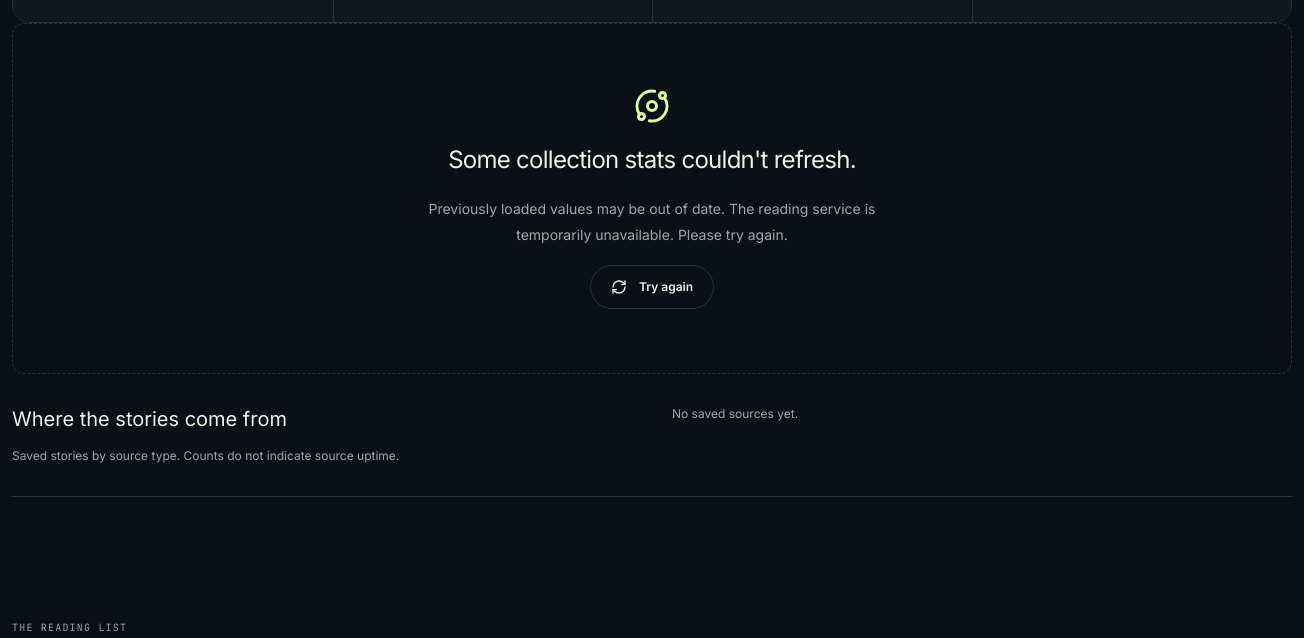
it: keeps stories readable during a stats failure and retries the failed widget
The image size is (1304, 638).
(page scrolled)
Expected: the heading "Some collection stats couldn't refresh." is shown, [448, 142, 856, 178]
Step 1. Click the button "Try again" → click(652, 287), box [590, 265, 714, 309]
(page scrolled)
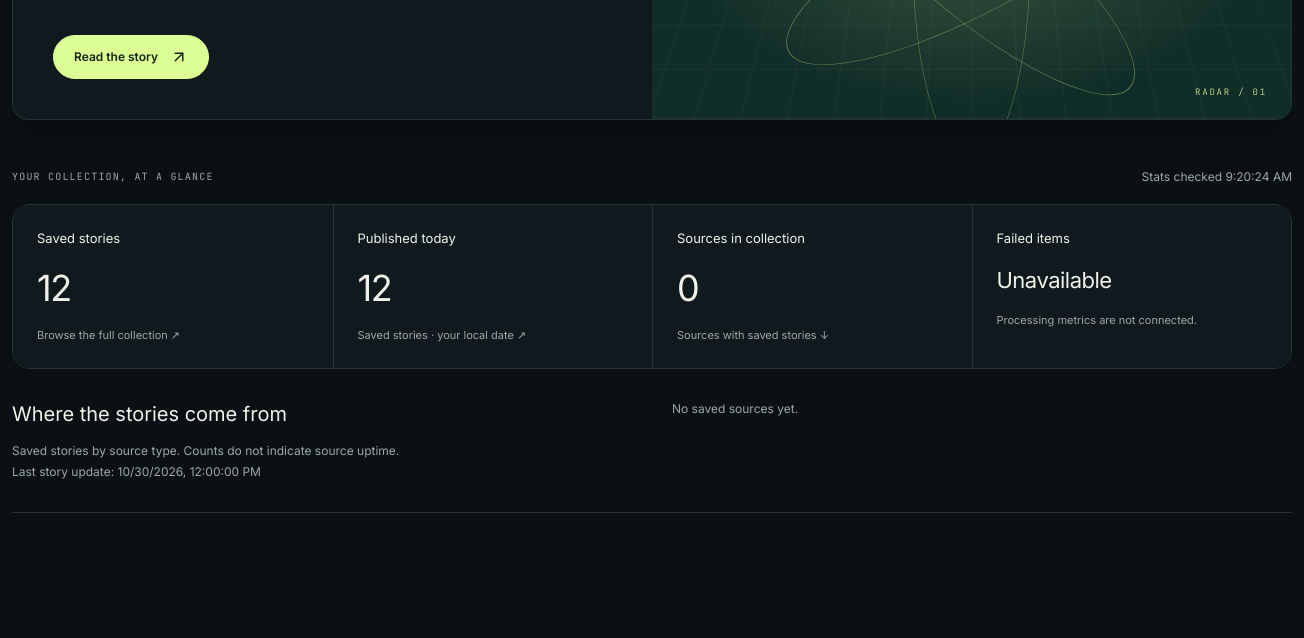
Expected: the link "Saved stories 12 Browse the full collection ↗" is shown, [13, 205, 332, 368]
